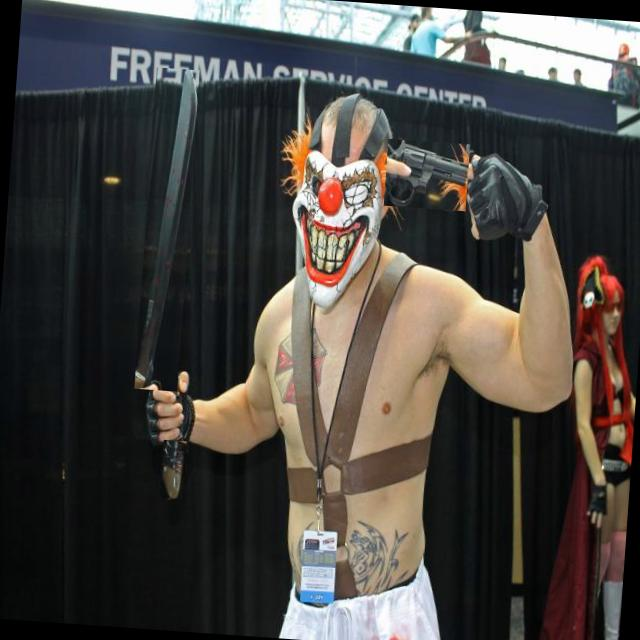Gun: (388, 140, 468, 207)
Knife: (134, 70, 196, 388), (162, 440, 185, 498)
